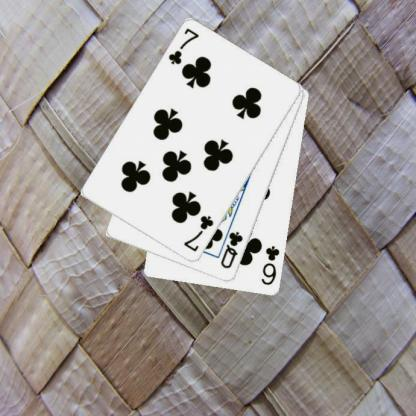6C: (259, 244, 281, 287)
7C: (181, 213, 215, 253), (166, 26, 200, 66)
QC: (218, 229, 244, 270)
